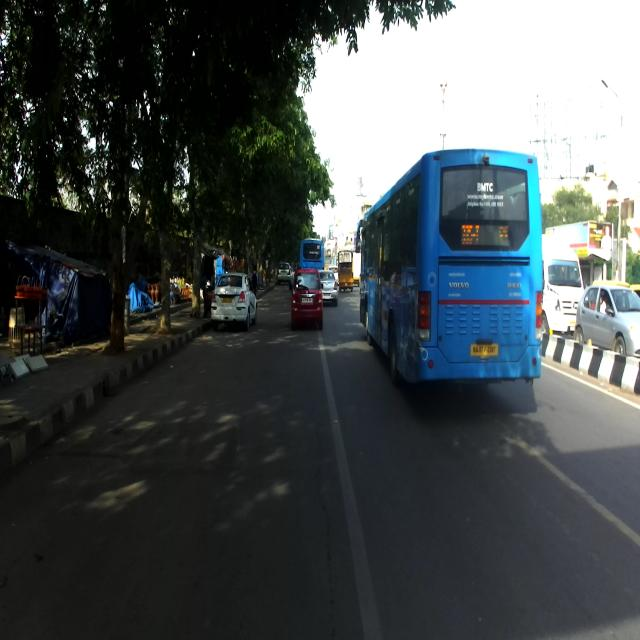car ahead at: (208, 268, 262, 338), (292, 270, 322, 330)
tree ahead at: (102, 111, 142, 356)
